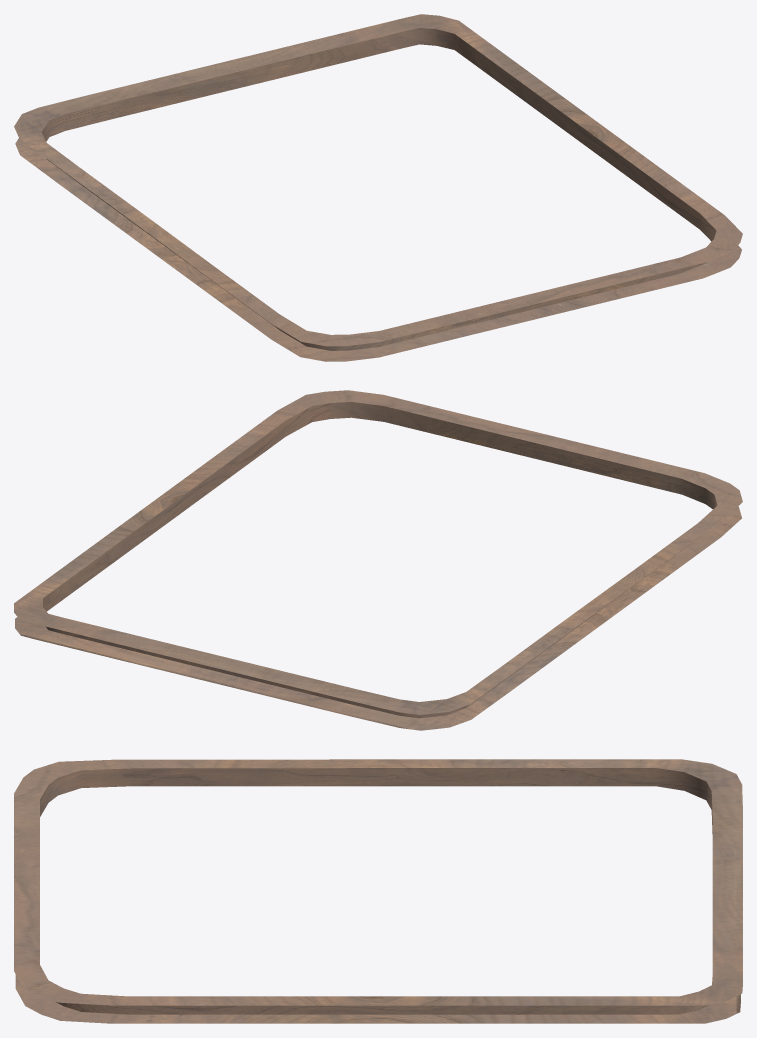
The model's file is trim2.FBX.
3 views of the same model, one above another, from view 1: azimuth 30°, elevation 25°; view 2: azimuth 150°, elevation 25°; view 3: azimuth 270°, elevation 25° (orthographic). The views are drawn at different scales.
Visible parts, largest first — view 1: Trim001; view 2: Trim001; view 3: Trim001.
Part boxes in pixels (box(x1,y1,x2,y2)): Trim001: box(14, 14, 742, 361); Trim001: box(14, 390, 742, 730); Trim001: box(14, 759, 742, 1023).
Bounding box in the file's own units: 213 × 7.51 × 267.
